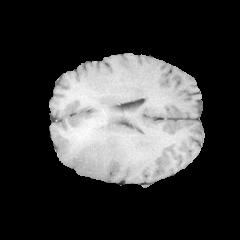glioma: (62, 97, 167, 179)
